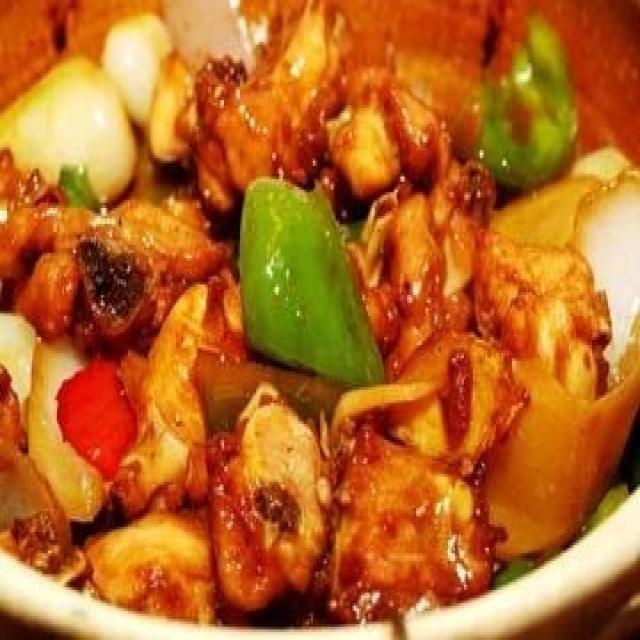鸡肉料理 含炸鸡: (16, 29, 631, 627)
